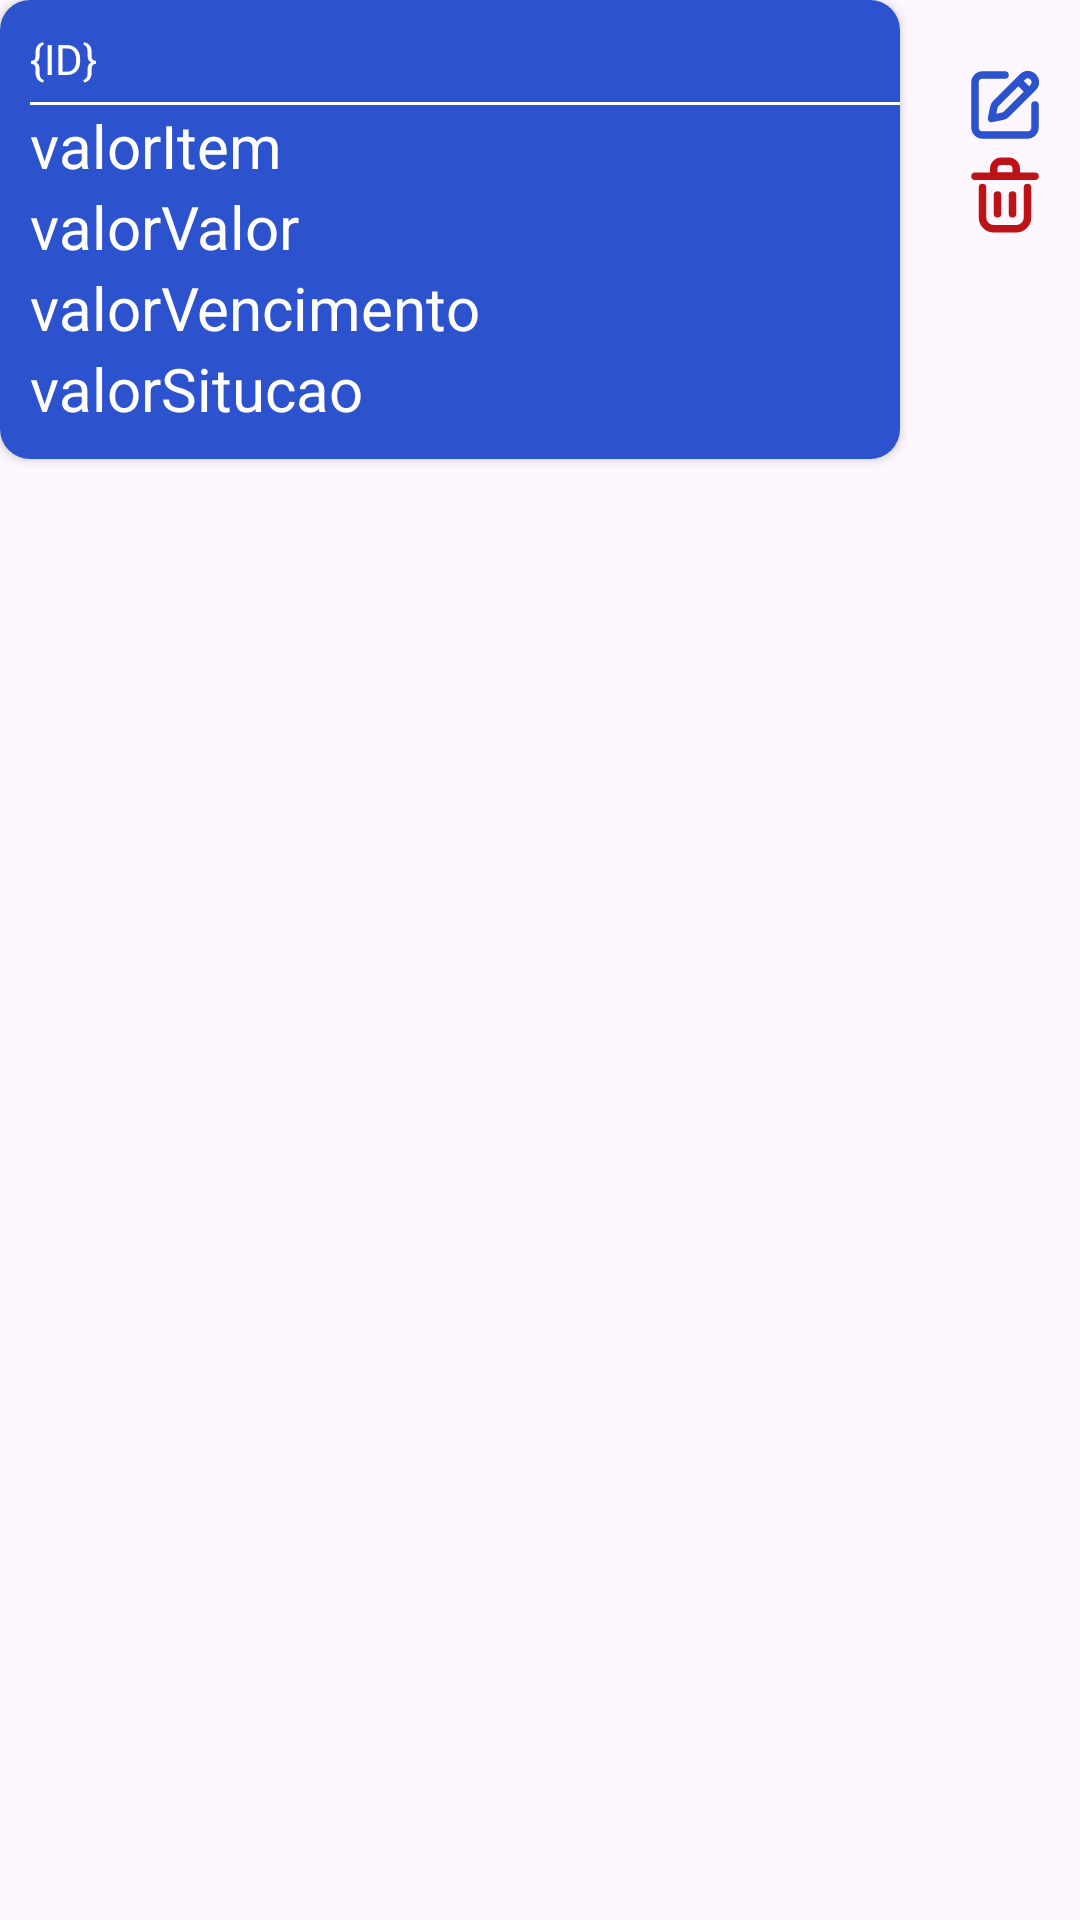

Icon bounding boxes for this 1080w x 1920h phone screenshot, format (x1, y1, x2, y2):
deletar: (971, 157, 1039, 233)
editar: (971, 71, 1039, 139)
